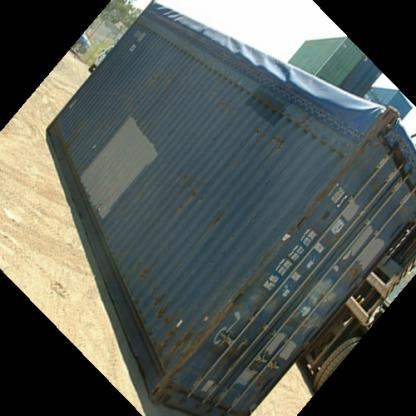Damage: (134, 263, 195, 360), (167, 161, 200, 211), (249, 122, 290, 154), (206, 205, 230, 236), (146, 65, 171, 91), (57, 127, 76, 143)
